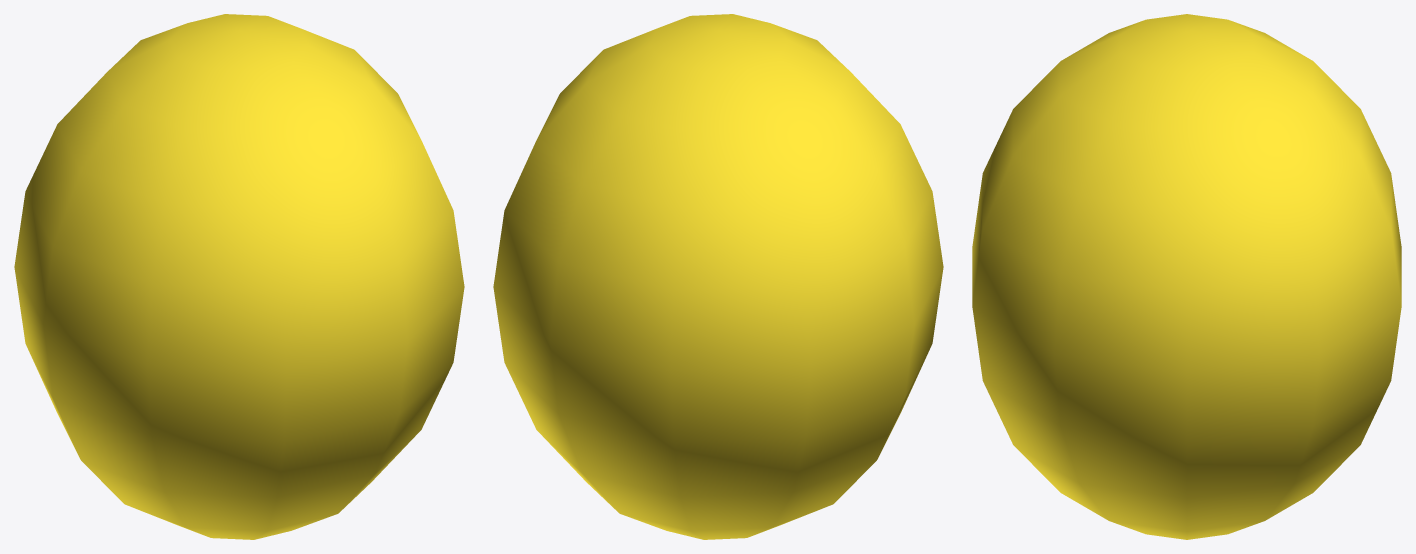
File: Voltwisp_stage1.obj
The picture shows the model from 3 angles, left to right: view 1: azimuth 30°, elevation 25°; view 2: azimuth 150°, elevation 25°; view 3: azimuth 270°, elevation 25°; orthographic projection.
Bounding box in the file's own units: 1.6 × 1.92 × 1.52.
